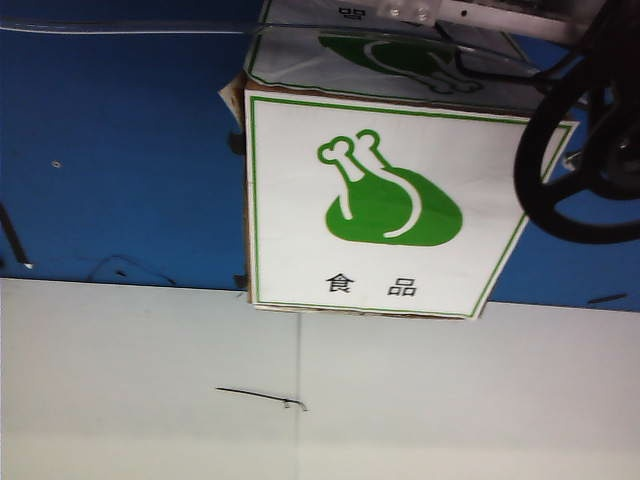Cube_food: (305, 121, 473, 312)
